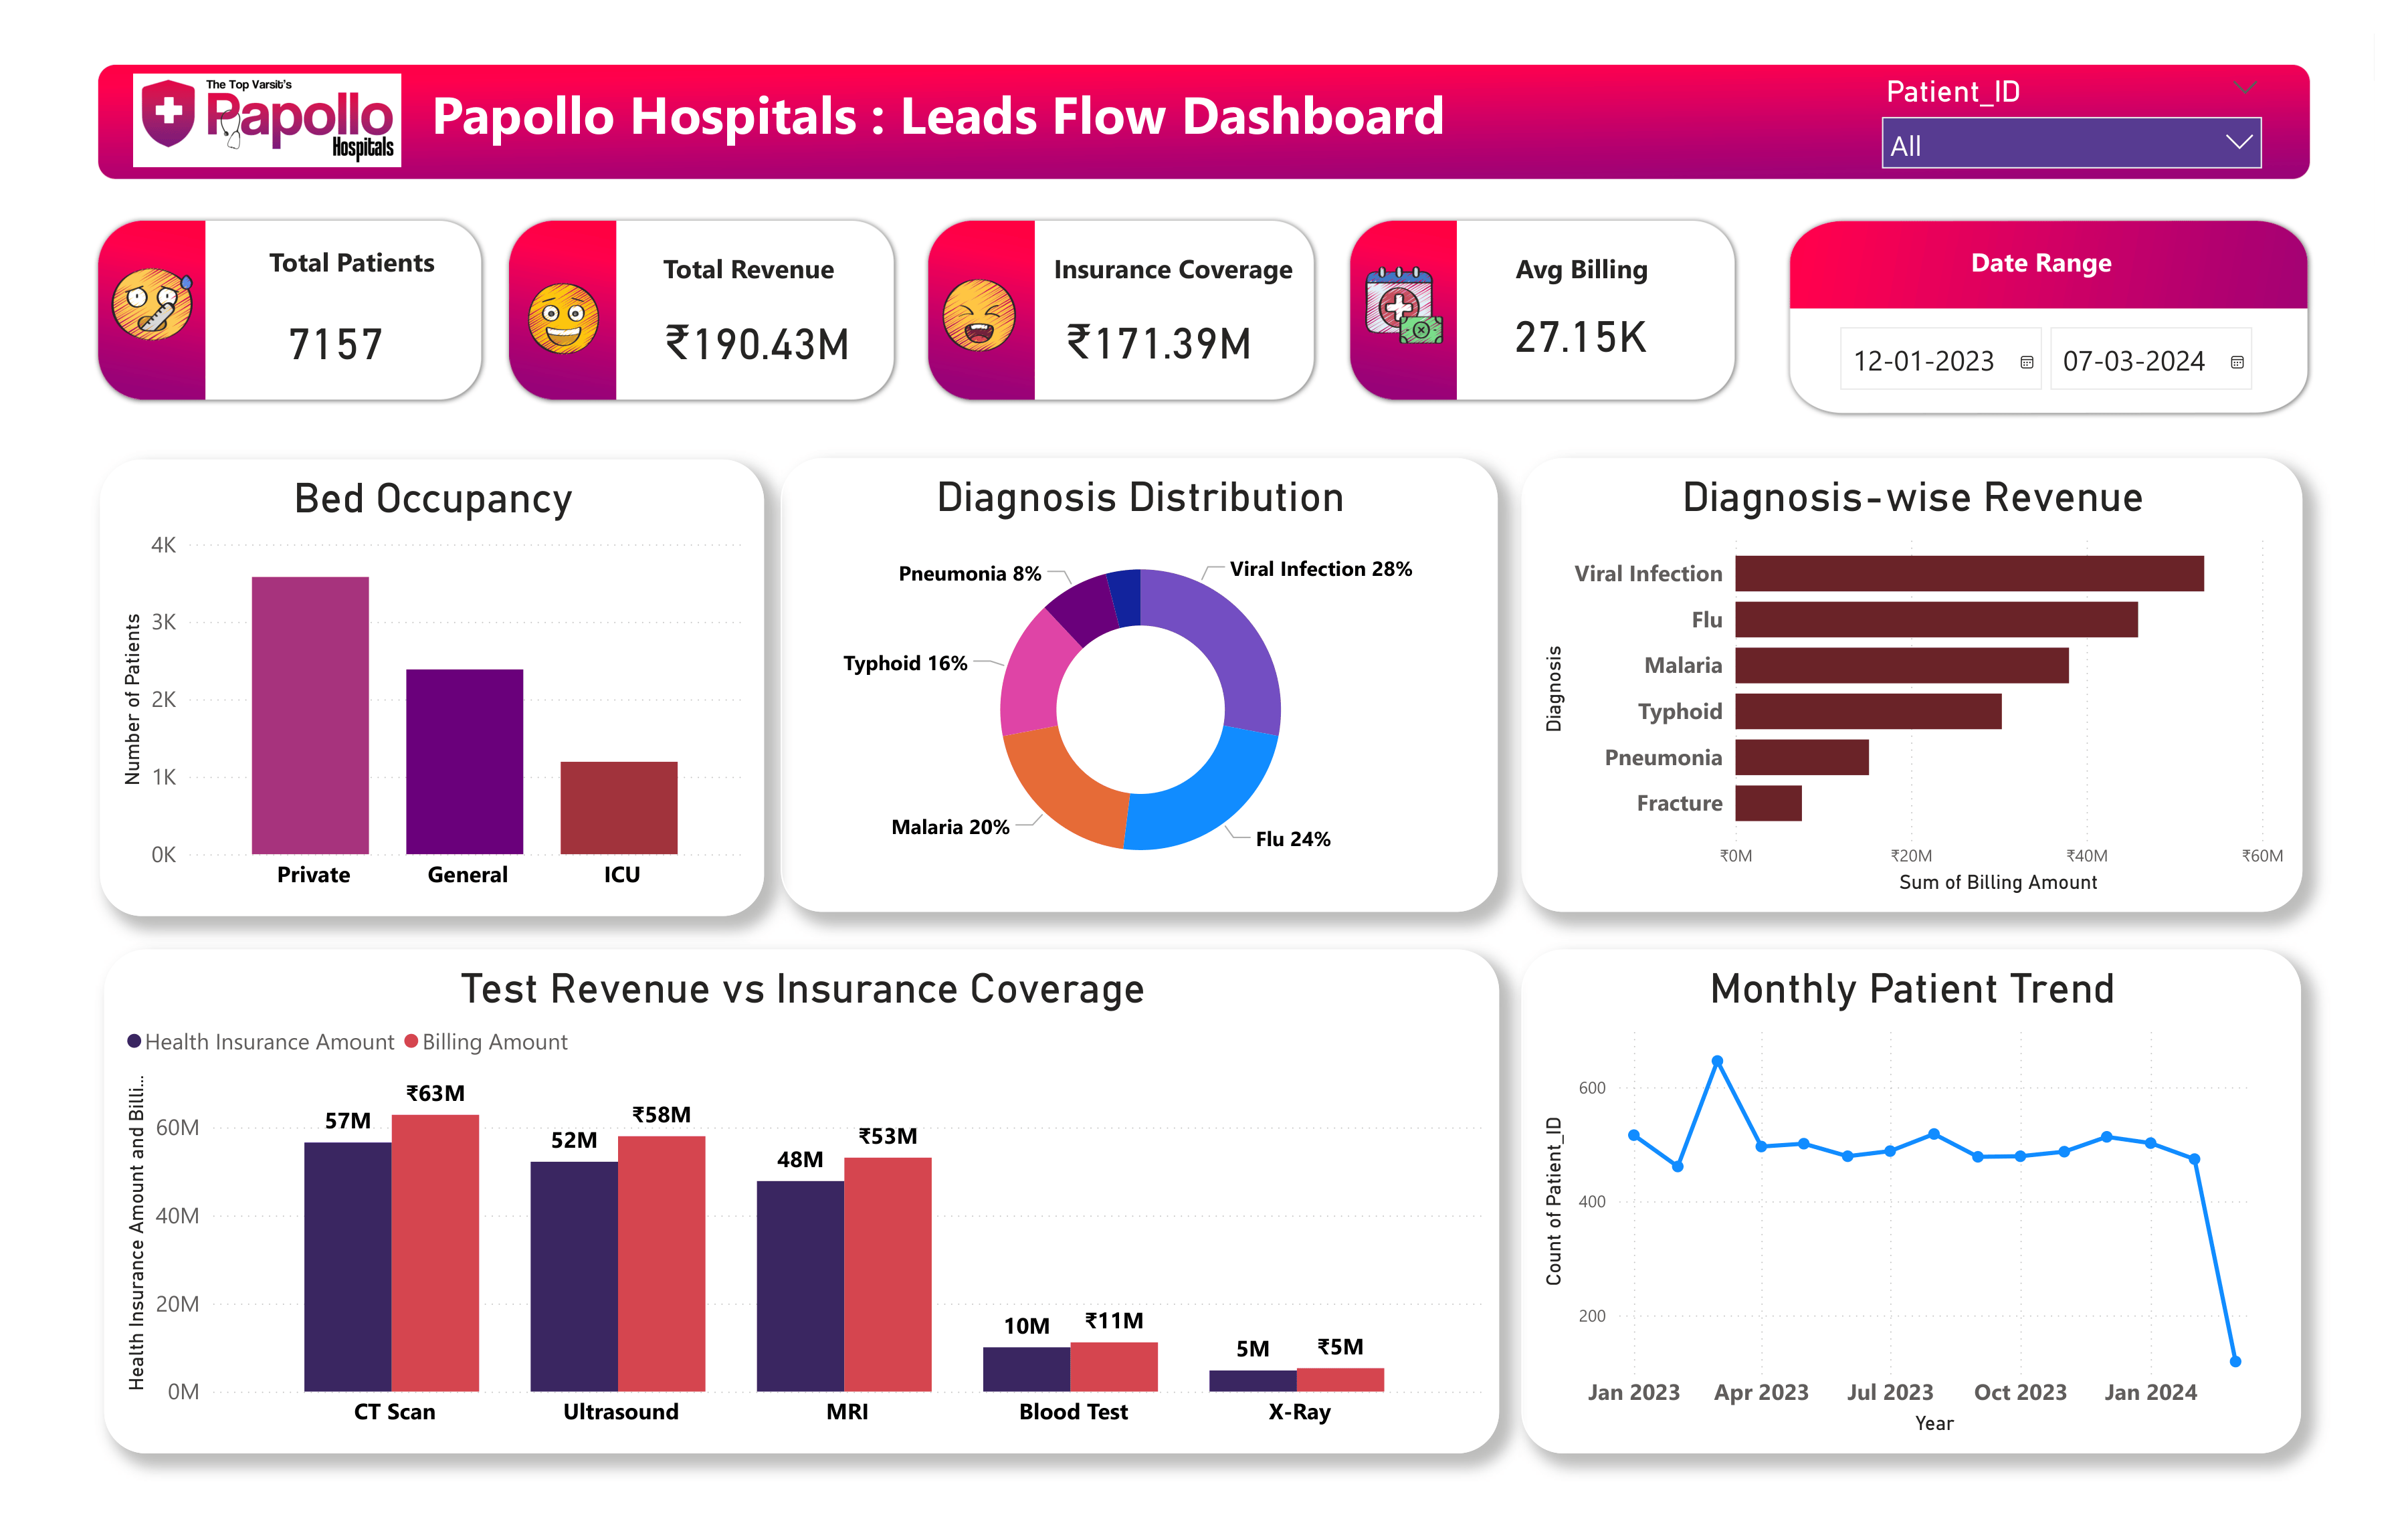

The page's visual inventory and layout, read from the dashboard file:
{"tool":"powerbi","page":{"name":"Page 2","canvas":[1680,1050],"ordinal":0},"visuals":[{"type":"textbox","box":[280,27.1,755.7,74.3],"z":0},{"type":"image","box":[2636.7,100,623.3,150],"z":1000},{"type":"slicer","fields":{"Values":["Sheet1.Patient_ID"]},"box":[2400,373.3,793.3,420],"z":2000},{"type":"card","fields":{"Values":["Sum(Sheet1.Billing Amount)"]},"box":[437.6,198.8,162.9,42.8],"z":3000},{"type":"card","fields":{"Values":["CountNonNull(Sheet1.Patient_ID)"]},"box":[129.8,198.8,172.6,42.8],"z":4000},{"type":"card","fields":{"Values":["Sum(Sheet1.Health Insurance Amount)"]},"box":[724.3,198.6,167.1,42.9],"z":5000},{"type":"textbox","box":[153.4,145.8,149.6,56.8],"z":6000},{"type":"textbox","box":[437.1,151.4,151.4,37.1],"z":7000},{"type":"textbox","box":[717.7,151.5,200.7,37.9],"z":8000},{"type":"textbox","box":[1035.7,151.4,151.4,37.1],"z":9000},{"type":"card","fields":{"Values":["Avg(Sheet1.Patient_ID)"]},"box":[1031.4,194.3,158.6,42.9],"z":10000},{"type":"image","box":[50,157.1,68.6,74.3],"z":11000},{"type":"image","box":[348.6,172.9,62.9,62.9],"z":12000},{"type":"image","box":[640,171.4,77.1,62.9],"z":13000},{"type":"image","box":[951.4,158.6,65.7,71.4],"z":14000},{"type":"columnChart","title":"Bed Occupancy","fields":{"Category":["Sheet1.Bed_Occupancy"],"Y":["CountNonNull(Sheet1.Bed_Occupancy)"]},"box":[47.1,305.7,477.1,328.6],"z":15000},{"type":"clusteredBarChart","title":"Diagnosis-wise Revenue ","fields":{"Category":["Sheet1.Diagnosis"],"Y":["Sum(Sheet1.Billing Amount)"]},"box":[1068,304.9,560.5,325.7],"z":16000},{"type":"image","box":[30,24.3,274.3,77.1],"z":17000},{"type":"clusteredColumnChart","title":"Test Revenue vs Insurance Coverage","fields":{"Category":["Sheet1.Test"],"Y":["Sum(Sheet1.Health Insurance Amount)","Sum(Sheet1.Billing Amount)"]},"box":[50,658,1002,362],"z":18000},{"type":"slicer","fields":{"Values":["Sheet1.Admit_Date"]},"box":[1284.3,201.2,360.6,68.9],"z":19000},{"type":"slicer","fields":{"Values":["Sheet1.Patient_ID"]},"box":[1317.1,24.3,292.9,82.9],"z":20000},{"type":"textbox","box":[1365.7,145.7,151.4,37.1],"z":21000},{"type":"donutChart","title":"Diagnosis Distribution","fields":{"Category":["Sheet1.Diagnosis"],"Y":["CountNonNull(Sheet1.Patient_ID)"]},"box":[535.9,304.9,515.1,325.7],"z":22000},{"type":"lineChart","title":"Monthly Patient Trend ","fields":{"Y":["CountNonNull(Sheet1.Patient_ID)"],"Category":["Sheet1.Admit_Date.Variation.Date Hierarchy.Year","Sheet1.Admit_Date.Variation.Date Hierarchy.Month"]},"box":[1068,658,560,362],"z":23000}]}

Visuals, with their boxes on the page's 1680x1050 design canvas (x1, y1, x2, y2). These are canvas units, not pixel positions in the 2408x1529 screenshot, which may show the page scaled, cropped or inside an application window:
textbox: bbox=[280, 27, 1036, 101]
image: bbox=[2637, 100, 3260, 250]
slicer - Sheet1.Patient_ID: bbox=[2400, 373, 3193, 793]
card - Sum(Sheet1.Billing Amount): bbox=[438, 199, 600, 242]
card - CountNonNull(Sheet1.Patient_ID): bbox=[130, 199, 302, 242]
card - Sum(Sheet1.Health Insurance Amount): bbox=[724, 199, 891, 242]
textbox: bbox=[153, 146, 303, 203]
textbox: bbox=[437, 151, 588, 188]
textbox: bbox=[718, 152, 918, 189]
textbox: bbox=[1036, 151, 1187, 188]
card - Avg(Sheet1.Patient_ID): bbox=[1031, 194, 1190, 237]
image: bbox=[50, 157, 119, 231]
image: bbox=[349, 173, 412, 236]
image: bbox=[640, 171, 717, 234]
image: bbox=[951, 159, 1017, 230]
"Bed Occupancy" columnChart: bbox=[47, 306, 524, 634]
"Diagnosis-wise Revenue " clusteredBarChart: bbox=[1068, 305, 1628, 631]
image: bbox=[30, 24, 304, 101]
"Test Revenue vs Insurance Coverage" clusteredColumnChart: bbox=[50, 658, 1052, 1020]
slicer - Sheet1.Admit_Date: bbox=[1284, 201, 1645, 270]
slicer - Sheet1.Patient_ID: bbox=[1317, 24, 1610, 107]
textbox: bbox=[1366, 146, 1517, 183]
"Diagnosis Distribution" donutChart: bbox=[536, 305, 1051, 631]
"Monthly Patient Trend " lineChart: bbox=[1068, 658, 1628, 1020]
